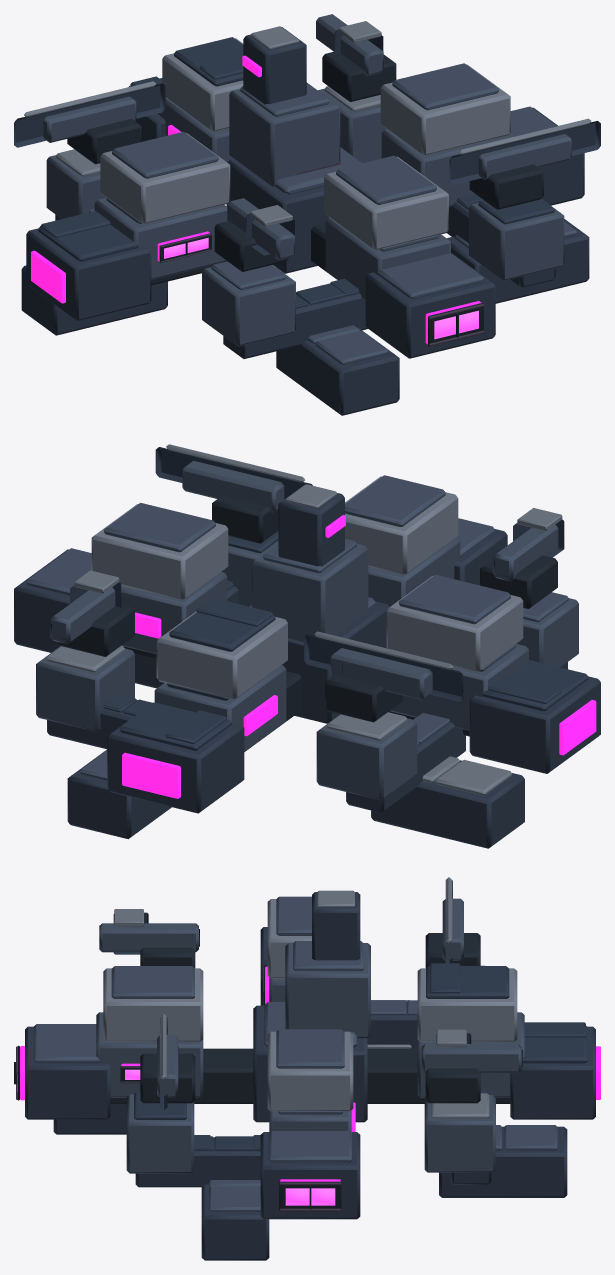
The model's file is 03_festung.glb.
3 renders of one model, top to bottom at view 1: azimuth 30°, elevation 25°; view 2: azimuth 150°, elevation 25°; view 3: azimuth 270°, elevation 25°, orthographic. The views are drawn at different scales.
Visible parts, largest first — view 1: Hull, weapon_3, weapon_5, weapon_4, weapon_2; view 2: Hull, weapon_3, weapon_5, weapon_4, weapon_2; view 3: Hull, weapon_4, weapon_2, weapon_5, weapon_3.
Part boxes in pixels (<box>): Hull: <box>21,26,589,415</box>; weapon_3: <box>14,81,165,147</box>; weapon_5: <box>449,118,600,185</box>; weapon_4: <box>227,198,294,259</box>; weapon_2: <box>316,14,383,75</box>; Hull: <box>14,475,600,848</box>; weapon_3: <box>304,631,463,701</box>; weapon_5: <box>155,444,312,512</box>; weapon_4: <box>493,508,564,581</box>; weapon_2: <box>50,570,121,643</box>; Hull: <box>14,890,600,1260</box>; weapon_4: <box>99,909,199,954</box>; weapon_2: <box>422,1029,522,1072</box>; weapon_5: <box>157,1013,178,1110</box>; weapon_3: <box>442,877,463,963</box>.
Bounding box in the file's own units: 28.29 × 13.17 × 28.29.
